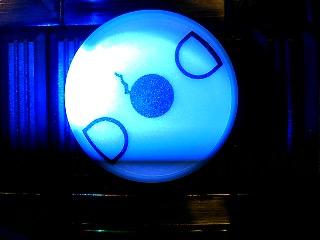CRACK: (64, 9, 238, 183)
